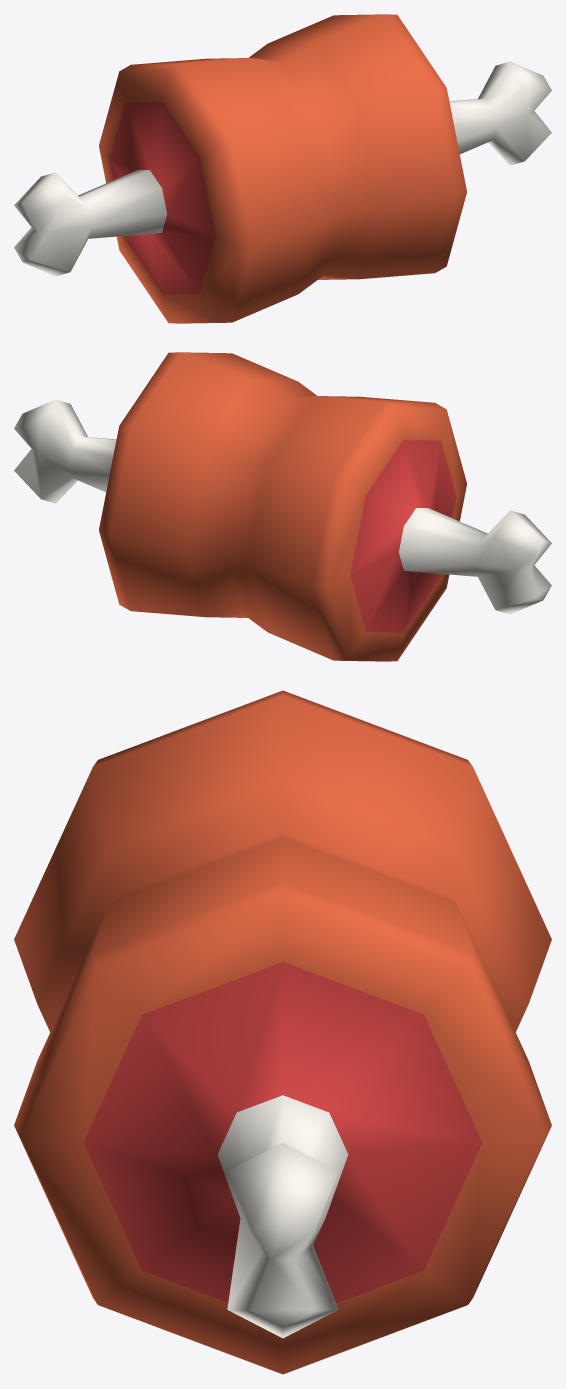
The model's file is AnimeMeat.fbx.
The picture shows the model from 3 angles, top to bottom: view 1: azimuth 30°, elevation 25°; view 2: azimuth 150°, elevation 25°; view 3: azimuth 270°, elevation 25°; orthographic projection. The views are drawn at different scales.
Visible parts, largest first — view 1: Meat; view 2: Meat; view 3: Meat.
Boxes of the visible parts, x1=… form: Meat: x1=14, y1=14, x2=551, y2=323; Meat: x1=14, y1=352, x2=551, y2=661; Meat: x1=14, y1=690, x2=551, y2=1374.
Bounding box in the file's own units: 368 × 175 × 175.
